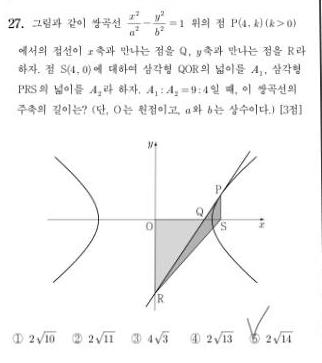choice: (245, 324, 261, 345)
not-choice: (9, 329, 25, 347), (128, 332, 143, 346), (188, 331, 203, 345), (69, 332, 84, 345)
